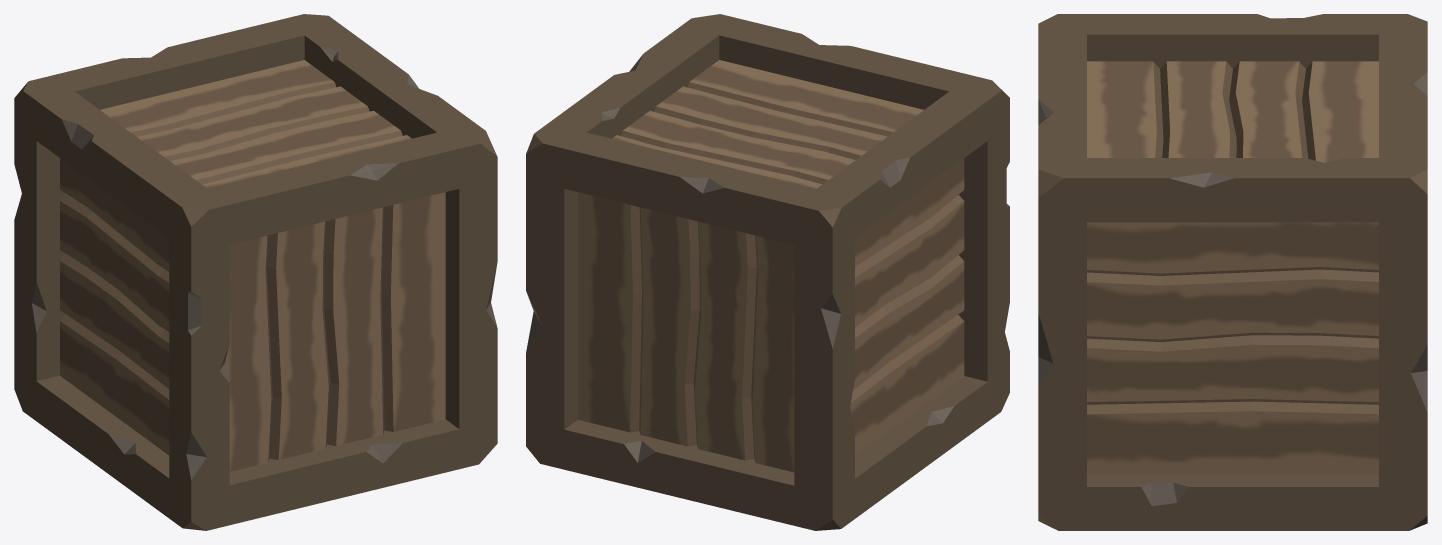
The model's file is Crate_01.fbx.
The picture shows the model from 3 angles, left to right: view 1: azimuth 30°, elevation 25°; view 2: azimuth 150°, elevation 25°; view 3: azimuth 270°, elevation 25°; orthographic projection. The views are drawn at different scales.
Visible parts, largest first — view 1: Crate_01; view 2: Crate_01; view 3: Crate_01.
Boxes of the visible parts, x1,y1,x2,y2 form: Crate_01: (14,14,497,530); Crate_01: (526,14,1009,530); Crate_01: (1038,14,1427,530).
Size of the model in its own units: 0.8 by 0.8 by 0.8.
